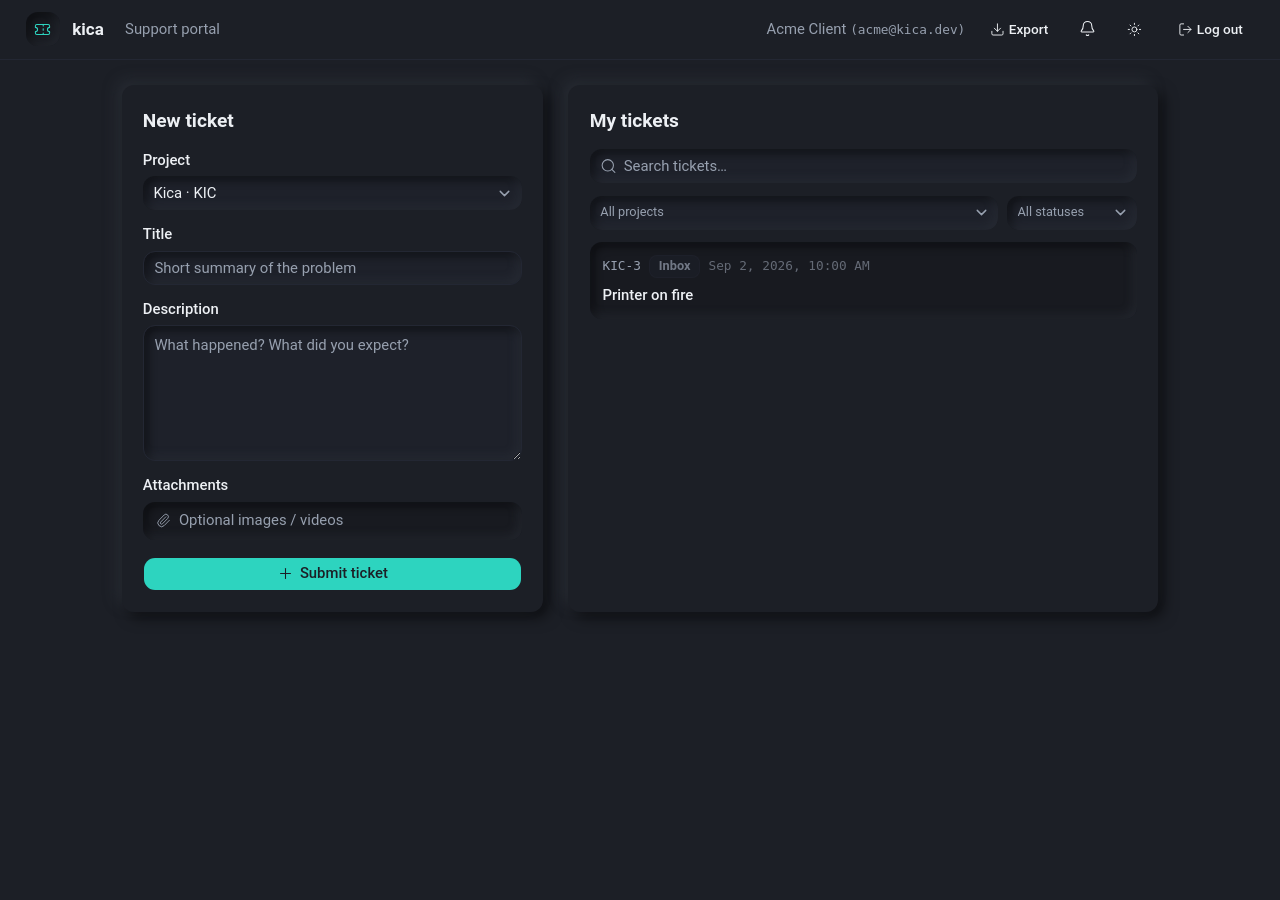
Test case: ClientPortal comments (#43) › empty thread shows the hint
The image size is (1280, 900).
Click the button "KIC-3 Inbox Sep 2, 2026, 10:00 AM Printer on fire". click: [675, 267]
box: x1=590 y1=242 x2=1137 y2=319
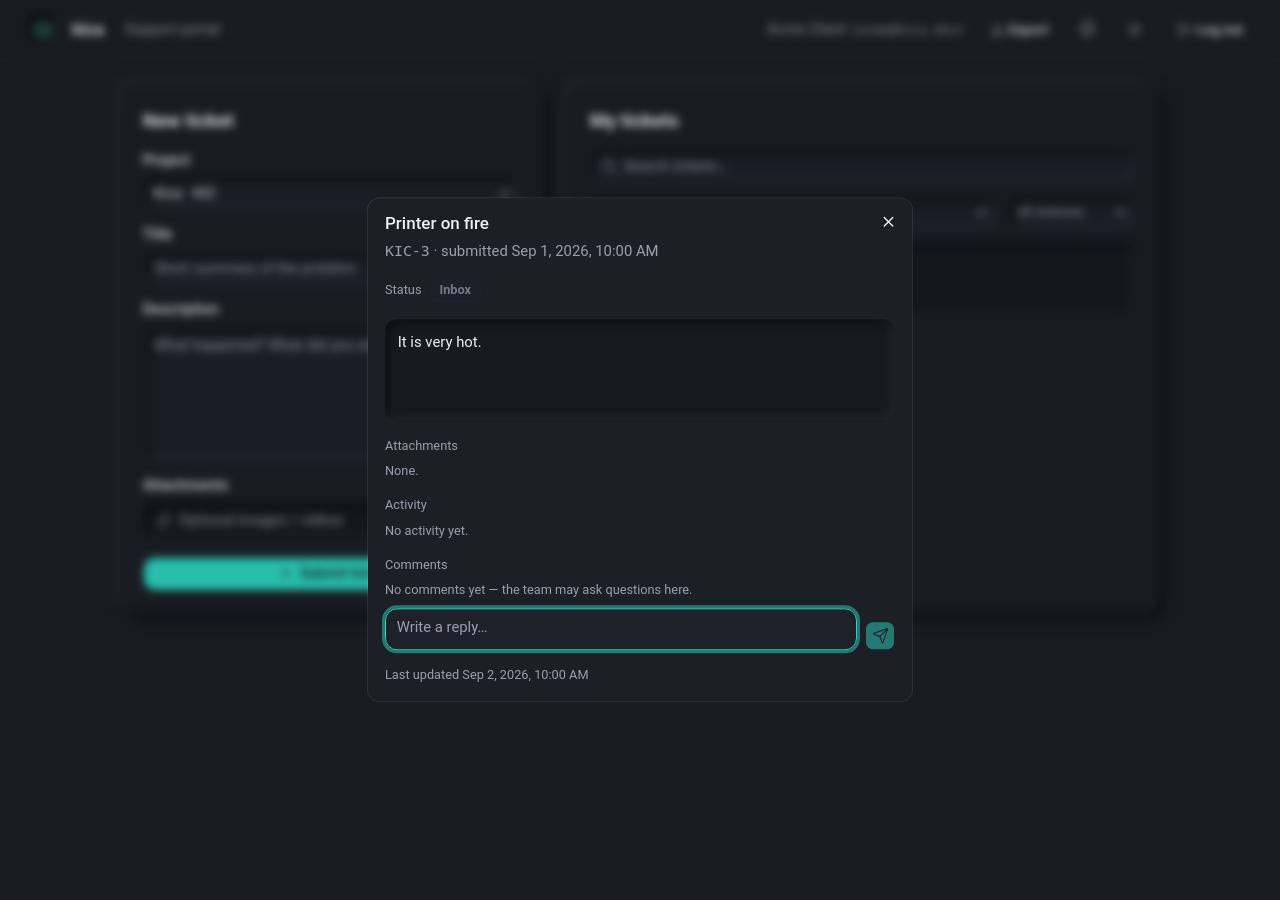
Expected: the text "No comments yet" is shown, x1=385 y1=583 x2=692 y2=598
